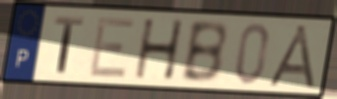0: (233, 21, 271, 87)
A: (264, 24, 320, 91)
B: (178, 19, 229, 86)
E: (86, 16, 138, 80)
H: (133, 18, 186, 82)
T: (52, 14, 86, 76)
